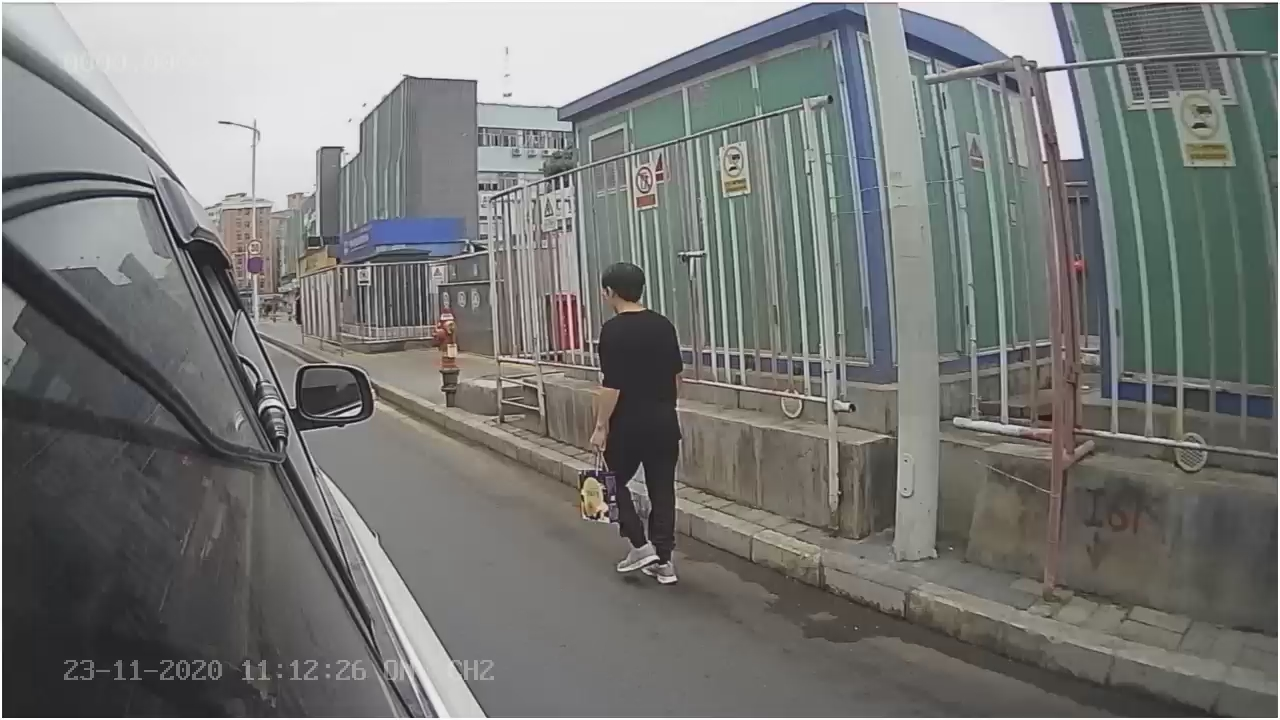person: (569, 258, 712, 591)
